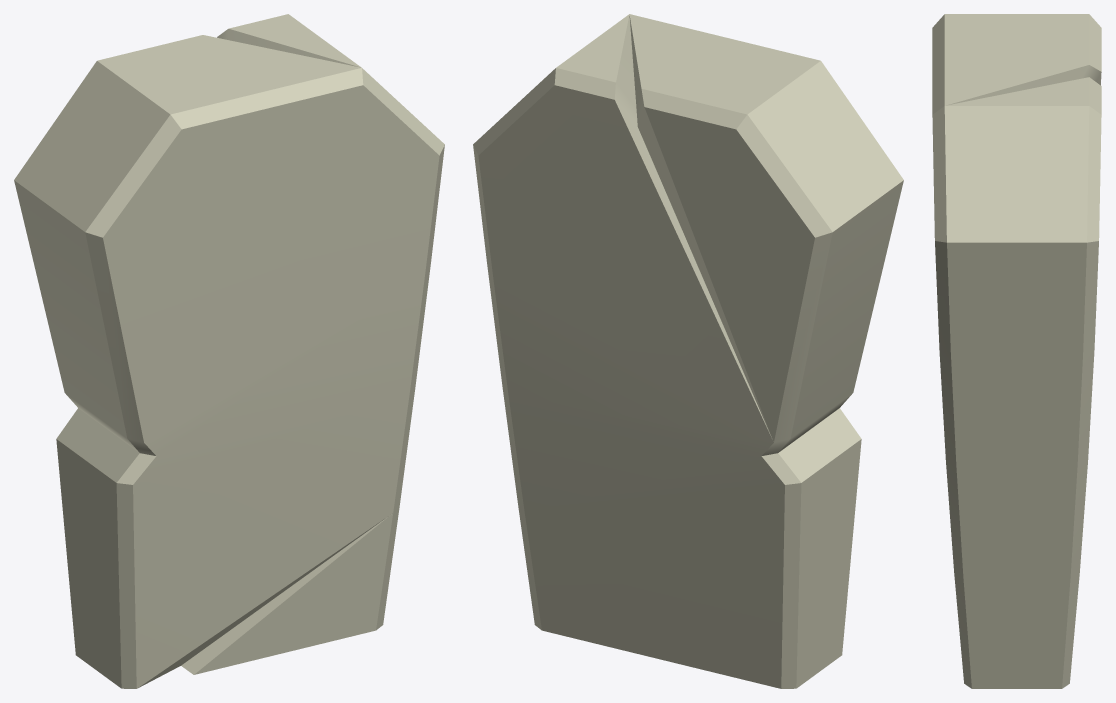
The model's file is SM_Stone_Deco_02.fbx.
3 renders of one model, left to right at view 1: azimuth 30°, elevation 25°; view 2: azimuth 150°, elevation 25°; view 3: azimuth 270°, elevation 25°, orthographic.
Parts seen in each view (by area): view 1: SM_Stone_Deco_02; view 2: SM_Stone_Deco_02; view 3: SM_Stone_Deco_02.
Boxes of the visible parts, x1,y1,x2,y2 form: SM_Stone_Deco_02: [14, 14, 444, 688]; SM_Stone_Deco_02: [473, 14, 903, 688]; SM_Stone_Deco_02: [932, 14, 1101, 688].
Bounding box in the file's own units: 42.38 × 64.82 × 17.54.
